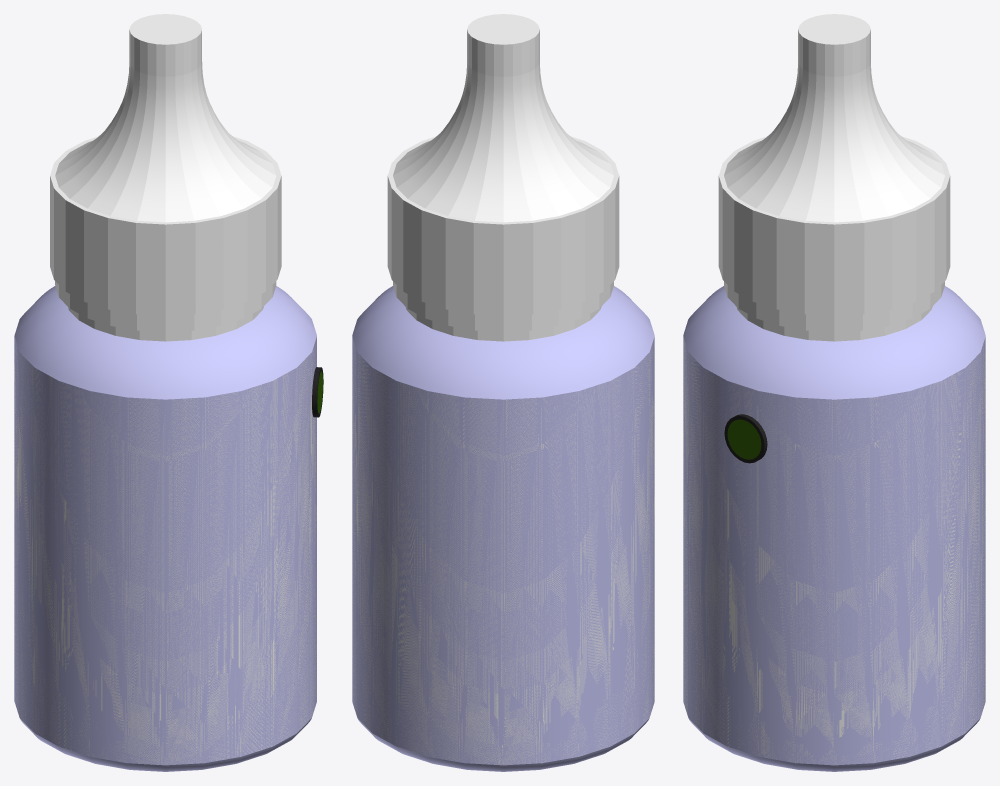
The model's file is 6.Botol GOM.dae.
3 views of the same model, side by side, from view 1: azimuth 30°, elevation 25°; view 2: azimuth 150°, elevation 25°; view 3: azimuth 270°, elevation 25° (orthographic).
Visible parts, largest first — view 1: group_0 (×7); view 2: group_0 (×7); view 3: group_0 (×7), SketchUp (×2).
Part boxes in pixels (x1=…): group_0 (×7): x1=14, y1=14, x2=316, y2=771; group_0 (×7): x1=352, y1=14, x2=654, y2=771; group_0 (×7): x1=683, y1=14, x2=985, y2=771; SketchUp (×2): x1=724, y1=414, x2=767, y2=463.
Bounding box in the file's own units: 2.36 × 2.36 × 5.91.
